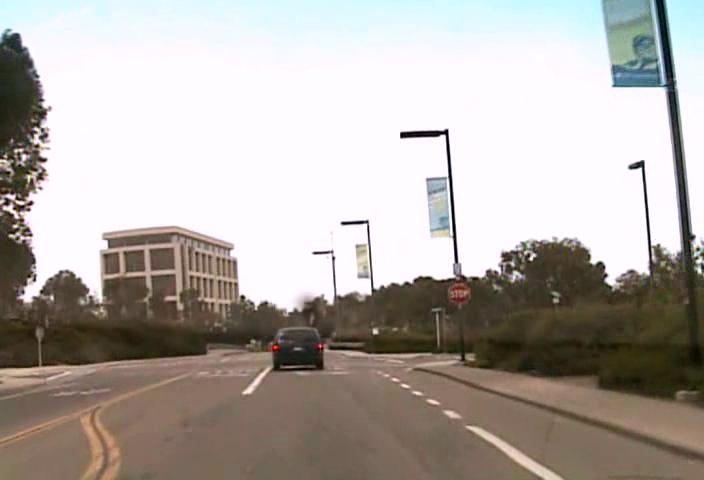stop: (447, 282, 471, 305)
